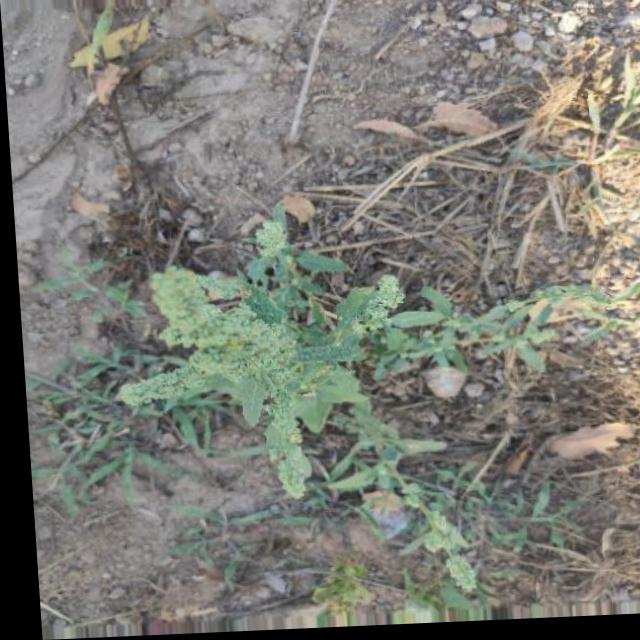weed: (146, 250, 418, 510)
